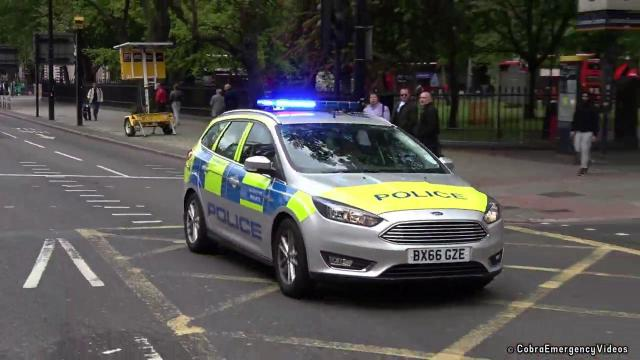police: (180, 97, 512, 291)
